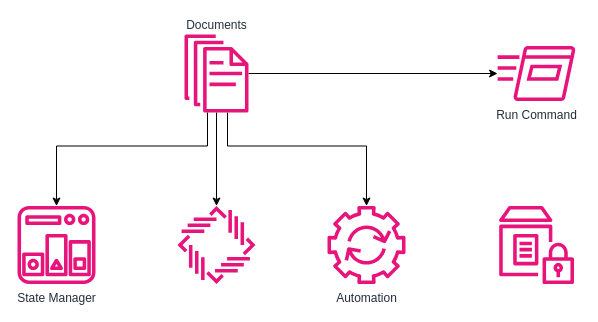
This 598x322 diagram has some shape labels left out. The centre of each missing label's shape, as x and y in pixels:
"Parameter Store" belongs at (536,245).
"Patch Manager" belongs at (216,245).
